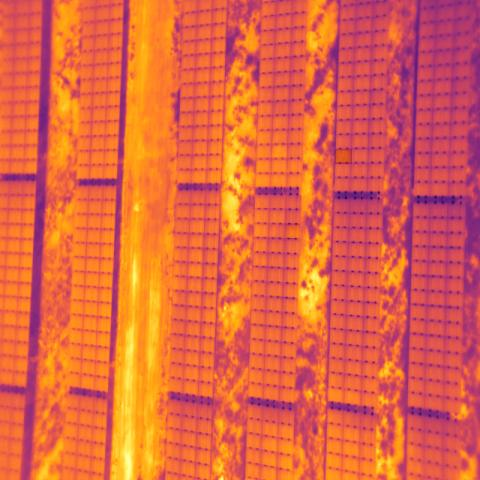fault: (335, 149, 352, 164), (285, 223, 300, 239)
